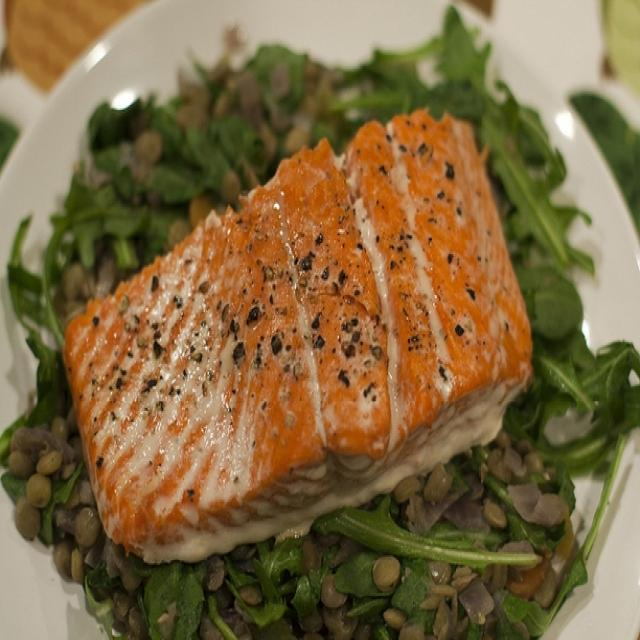熟制海鲜: (25, 44, 584, 587)
